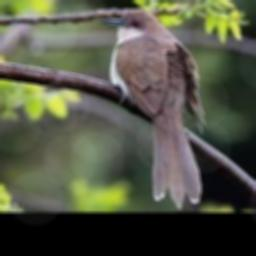Cuckoo: (101, 9, 206, 209)
